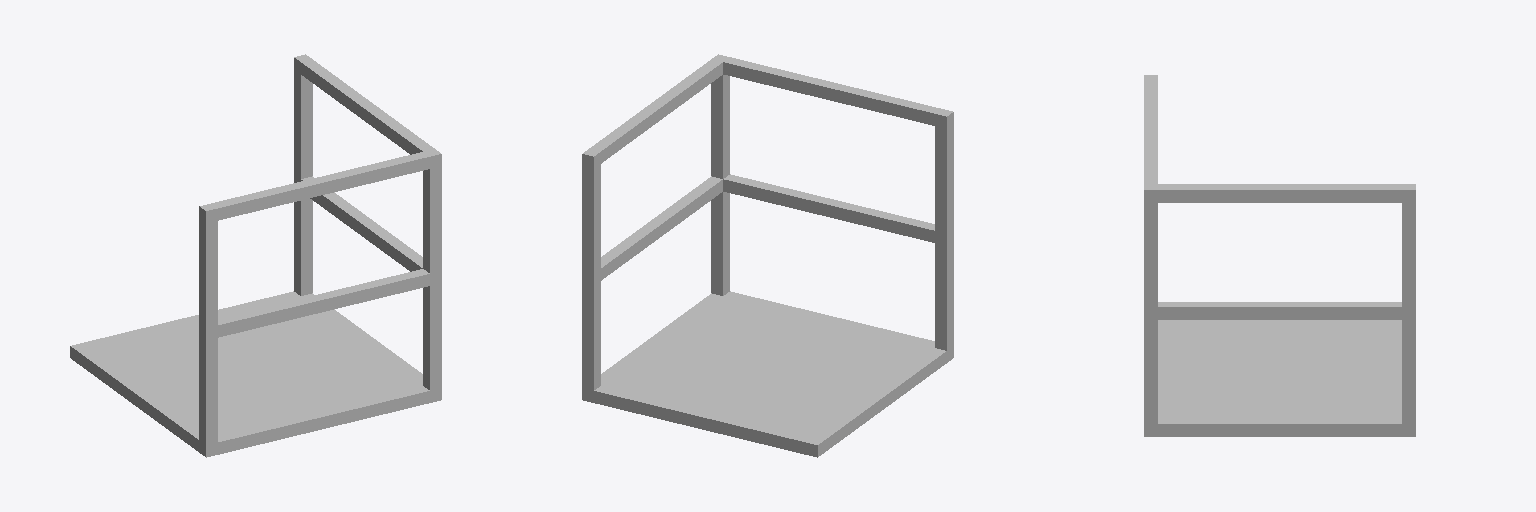
The model's file is platform L.obj.
3 renders of one model, left to right at view 1: azimuth 30°, elevation 25°; view 2: azimuth 150°, elevation 25°; view 3: azimuth 270°, elevation 25°, orthographic.
Visible parts, largest first — view 1: object 1; view 2: object 1; view 3: object 1.
Part boxes in pixels (bbox=[...]): object 1: bbox=[70, 54, 441, 457]; object 1: bbox=[582, 54, 953, 457]; object 1: bbox=[1144, 75, 1415, 436].
Bounding box in the file's own units: 4 × 4 × 4.